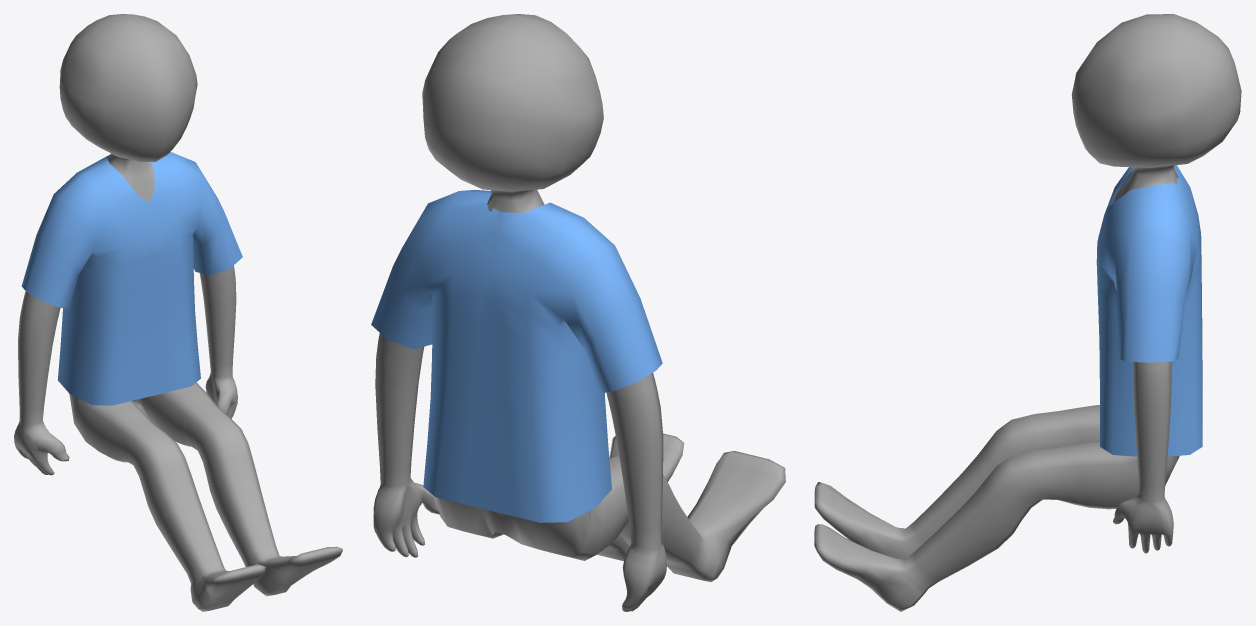
The model's file is child.fbx.
3 renders of one model, left to right at view 1: azimuth 30°, elevation 25°; view 2: azimuth 150°, elevation 25°; view 3: azimuth 270°, elevation 25°, orthographic. The views are drawn at different scales.
Parts seen in each view (by area): view 1: pCube8; view 2: pCube8; view 3: pCube8.
Part boxes in pixels (bbox=[...]): pCube8: bbox=[14, 14, 342, 611]; pCube8: bbox=[371, 14, 785, 611]; pCube8: bbox=[814, 14, 1241, 611].
Bounding box in the file's own units: 1.23 × 2.7 × 1.84.
